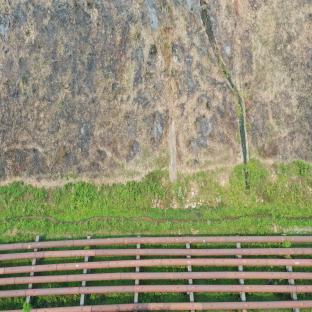slope_drain: (198, 10, 251, 189), (167, 118, 178, 181)
toe_drain: (0, 212, 312, 229)
